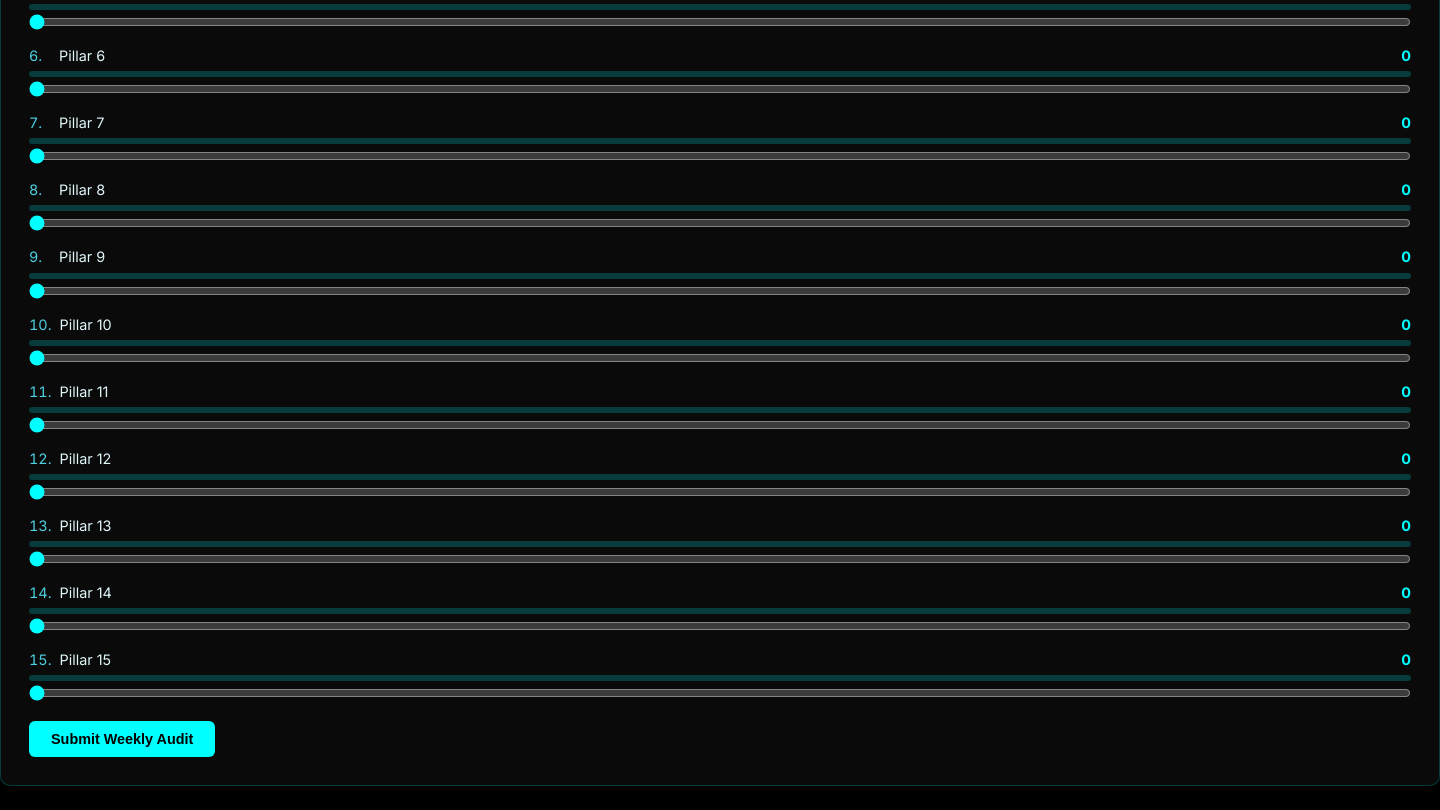
Scenario: Governance › shows gate PASSED success message when all pillars balanced
(page scrolled)
Click the button "Submit Weekly Audit": (122, 739) [29, 721, 215, 757]
(page scrolled)
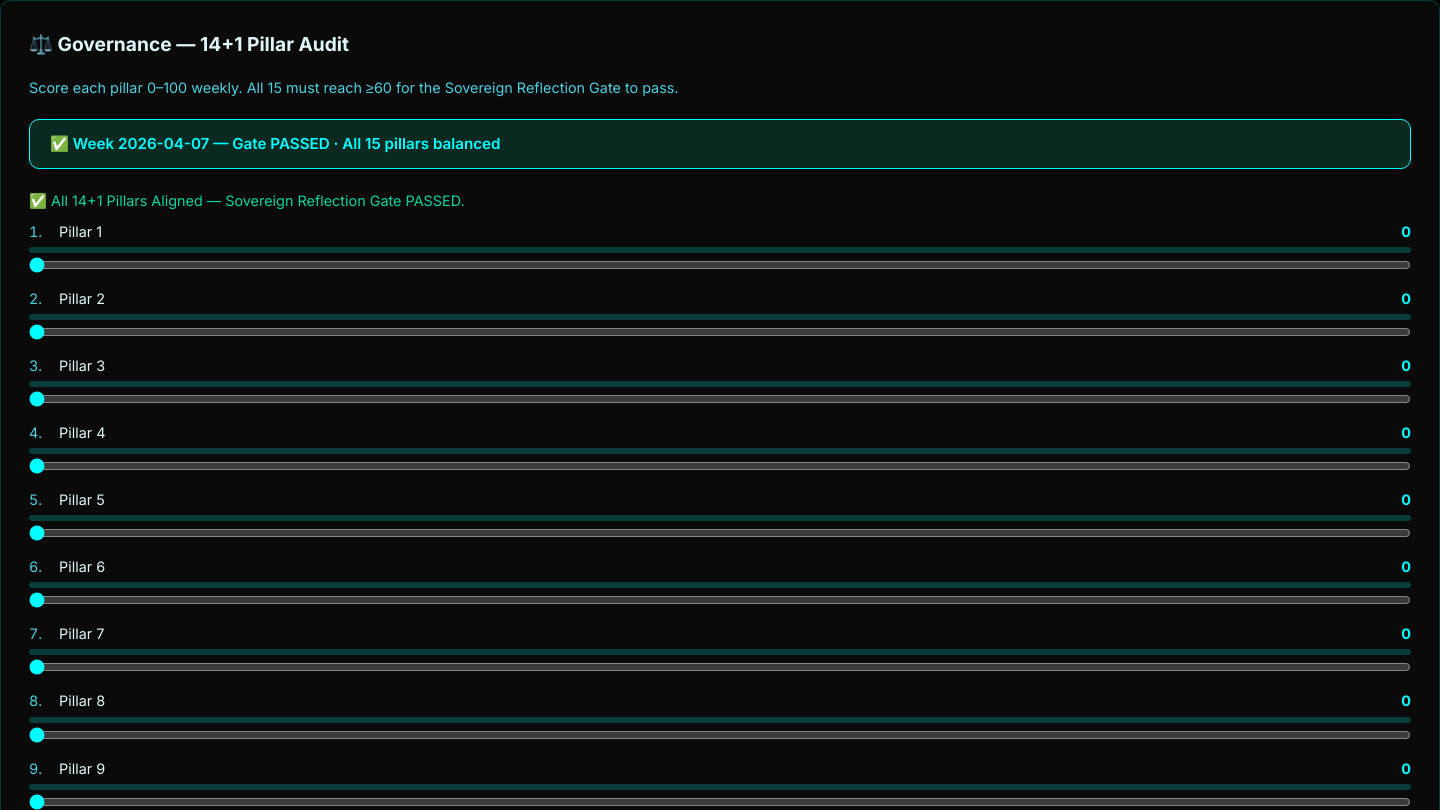
Expected: the text "All 14+1 Pillars Aligned" is shown, [29, 192, 465, 209]
